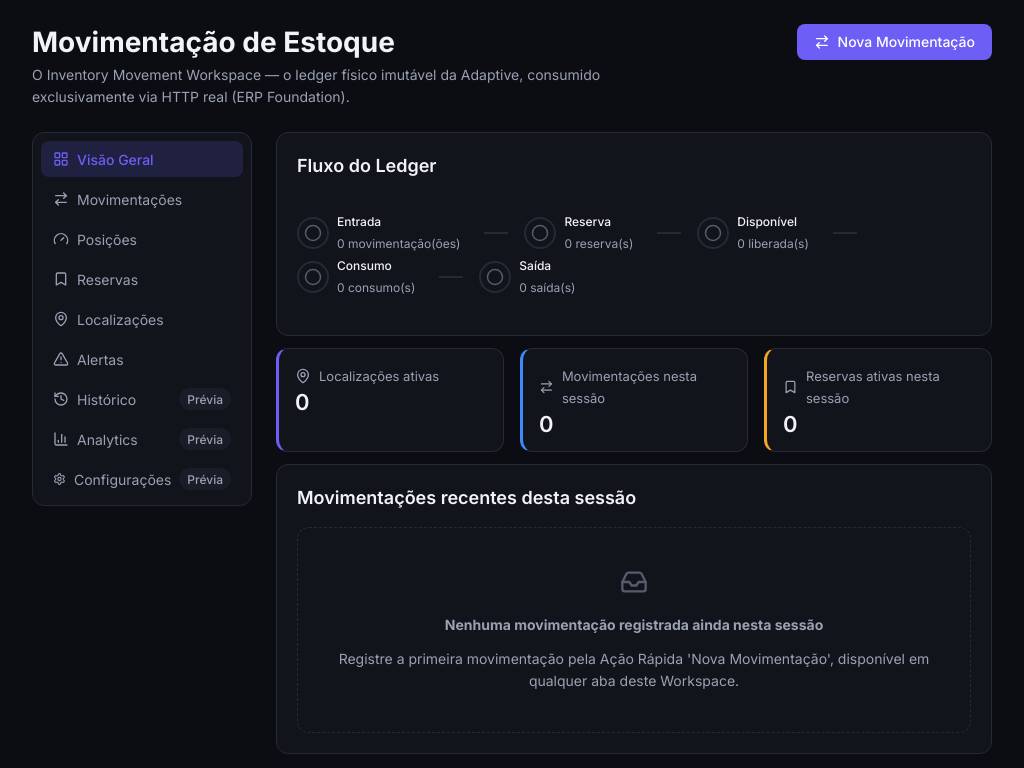
Test: InventoryMovementPage — Inventory Movement Workspace por seções (IMP-405) › LEDGER: registrar movimento -> atualização automática da lista já consultada em Movimentações
The image size is (1024, 768).
expect the button "Visão Geral" is shown: met, box [41,141,243,177]
Click the button "Movimentações": (142, 199) [41,181,243,217]
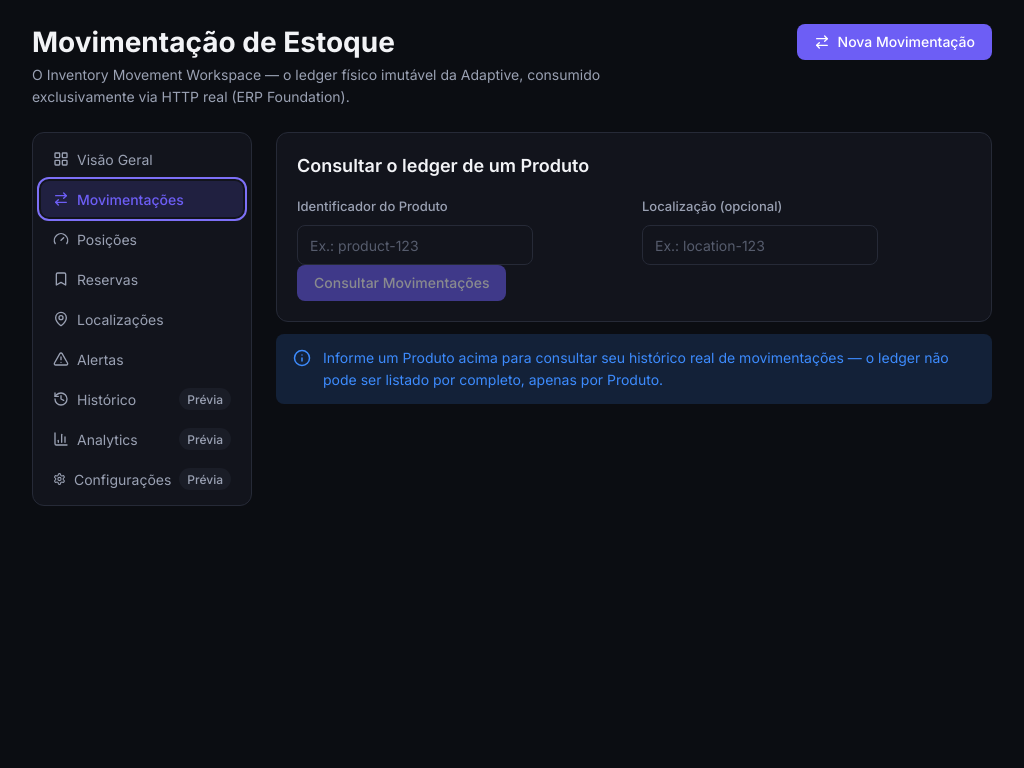
In the field labelled "Identificador do Produto": (415, 245) [297,225,533,265], type "product-1"
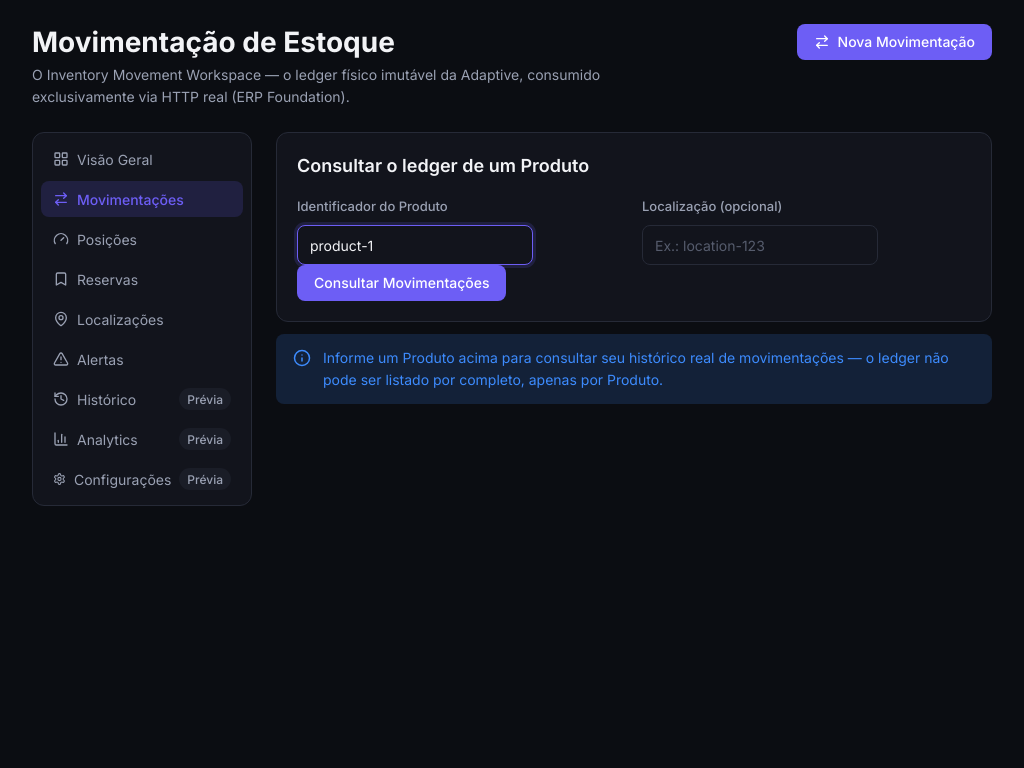
Click the button "Consultar Movimentações": (402, 283) [297,265,506,301]
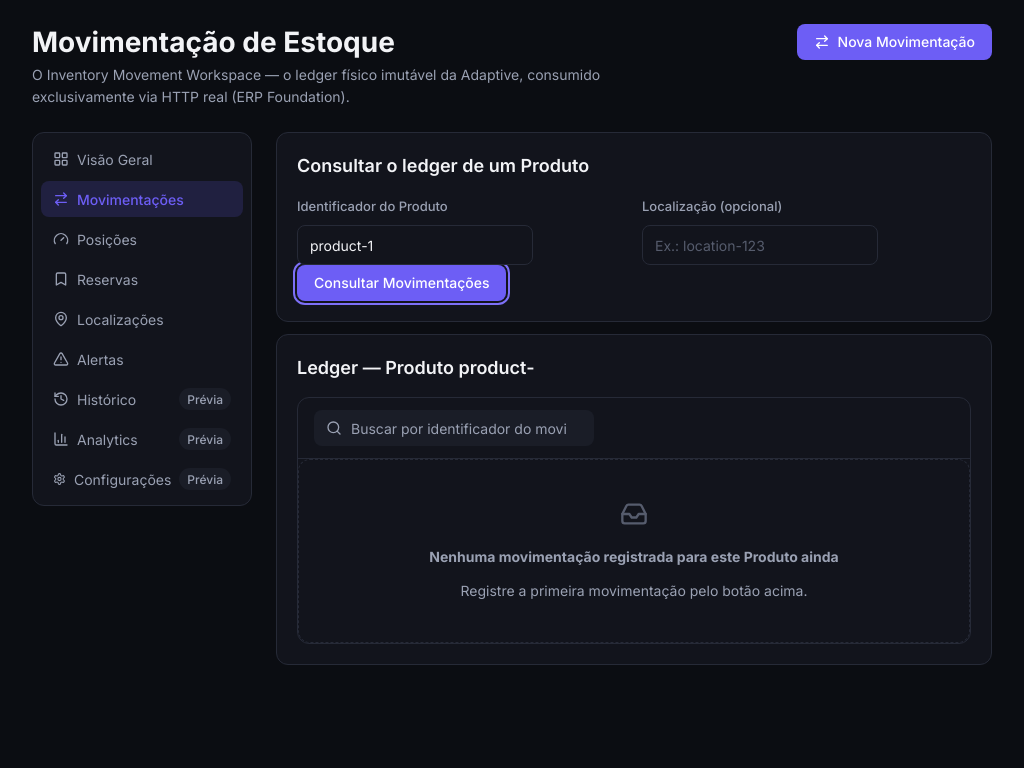
expect the text "Nenhuma movimentação registrada para este Produto ainda" is shown: met, box [429,546,839,568]
Click the button "Nova Movimentação": (894, 42) [796,24,992,60]
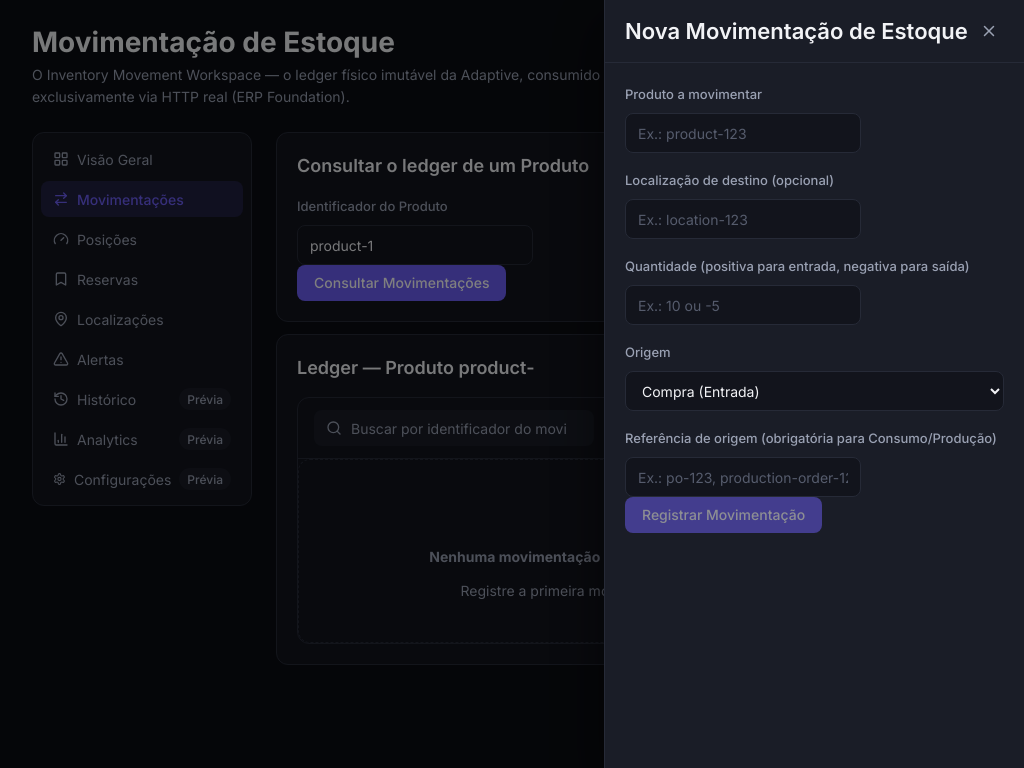
In the field labelled "Produto a movimentar": (743, 133) [625,113,861,153], type "product-1"
In the number field labelled "Quantidade (positiva para entrada, negativa para saída)": (743, 305) [625,285,861,325], type "10"
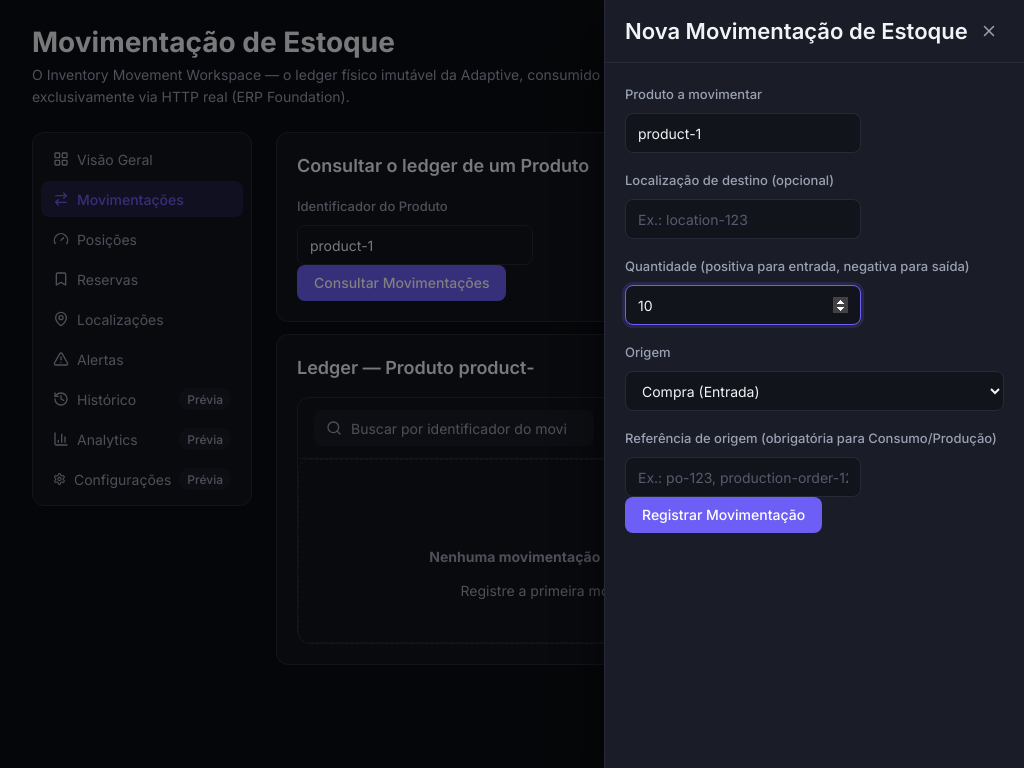
Click the button "Registrar Movimentação": (724, 515) [625,497,822,533]
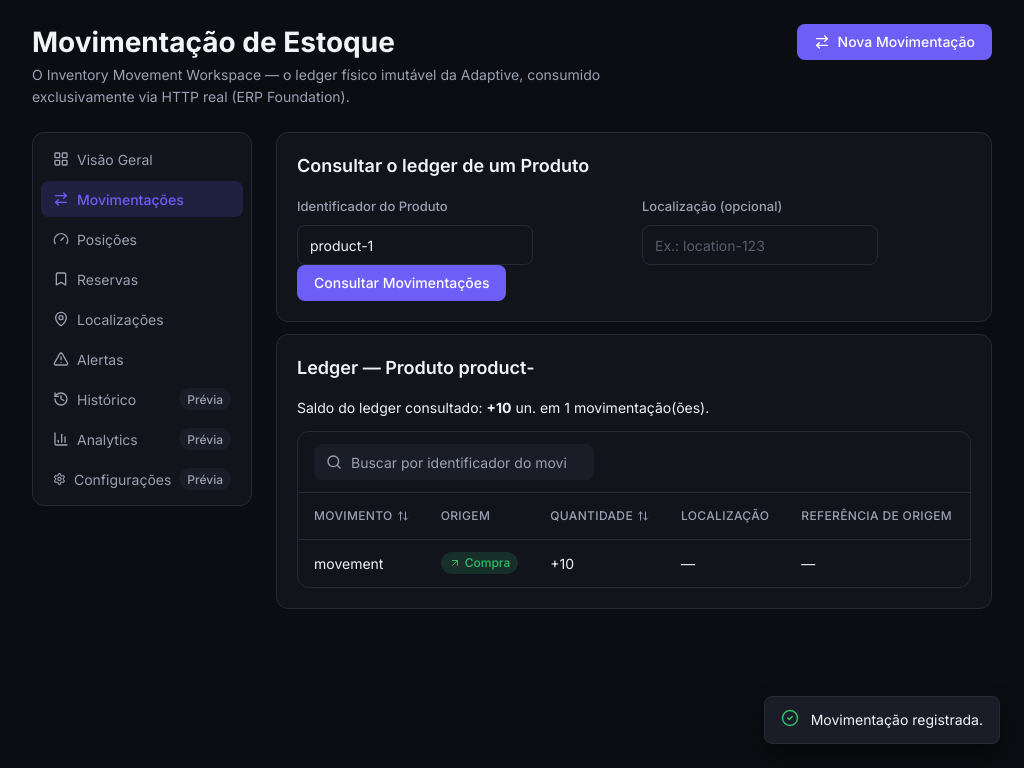
expect the heading "Nova Movimentação de Estoque" is gone: met
expect the text "Nenhuma movimentação registrada para este Produto ainda" is gone: met
expect the text "movement" is shown: met, box [298,540,425,587]
